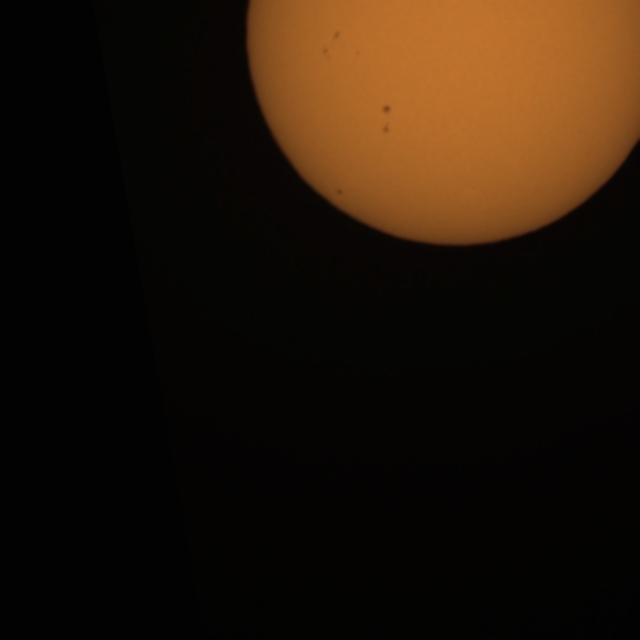sunspot: (321, 30, 341, 62), (380, 110, 392, 136), (380, 103, 393, 116), (331, 29, 342, 42), (321, 46, 331, 60), (334, 187, 345, 198)
